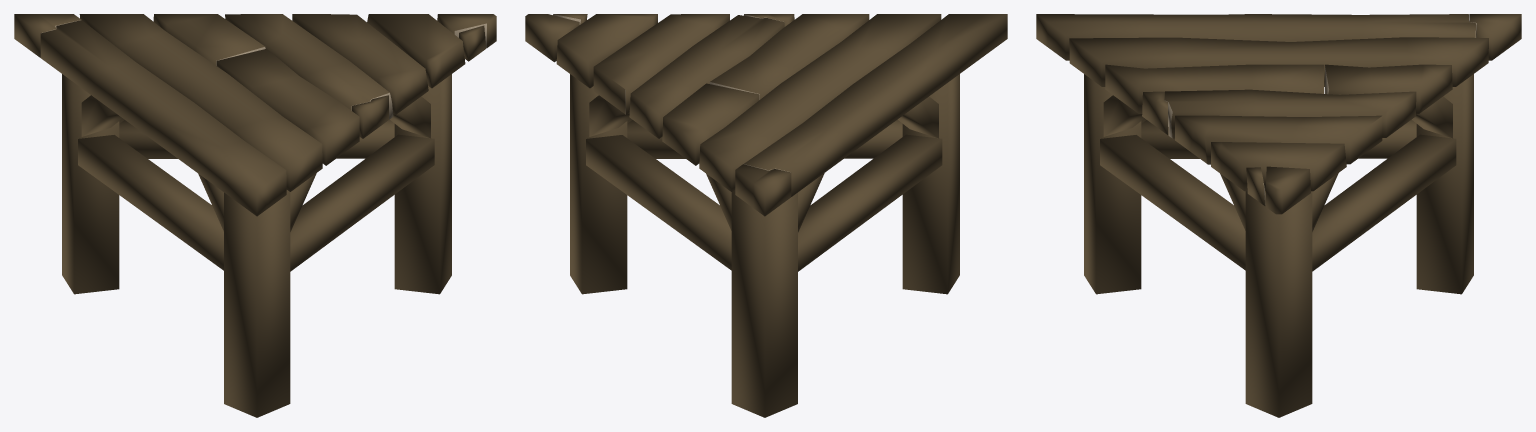
File: SM_Polygonal_Wood_Tri_Foundation.fbx
3 renders of one model, left to right at view 1: azimuth 30°, elevation 25°; view 2: azimuth 150°, elevation 25°; view 3: azimuth 270°, elevation 25°, orthographic.
Visible parts, largest first — view 1: SM_Polygonal_Wood_Tri_Foundation_LOD0; view 2: SM_Polygonal_Wood_Tri_Foundation_LOD0; view 3: SM_Polygonal_Wood_Tri_Foundation_LOD0.
Part boxes in pixels (x1,y1,x2,y2): SM_Polygonal_Wood_Tri_Foundation_LOD0: (14, 14, 496, 417); SM_Polygonal_Wood_Tri_Foundation_LOD0: (525, 14, 1007, 417); SM_Polygonal_Wood_Tri_Foundation_LOD0: (1036, 14, 1521, 417).
Size of the model in its own units: 256 by 300 by 170.
Materials: 1 (1 with a texture image).
